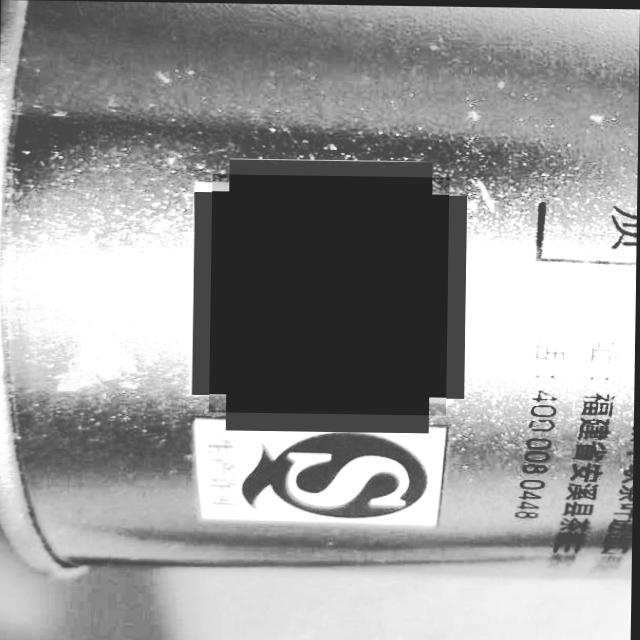qr_code: (209, 174, 449, 415)
